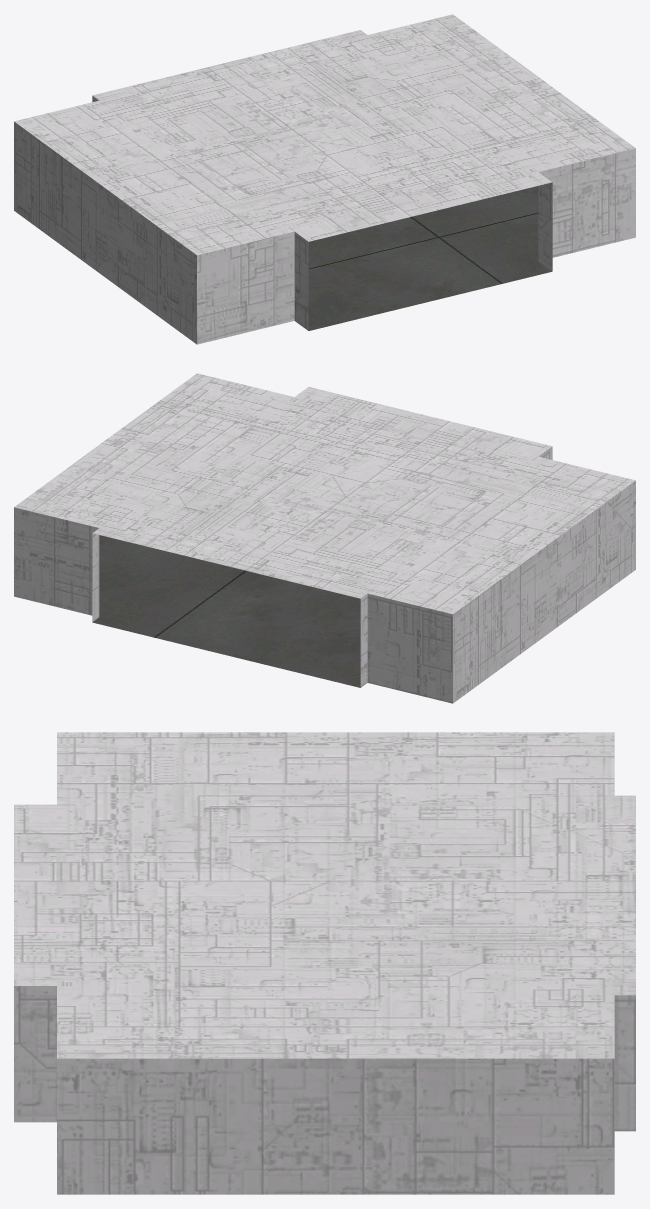
File: thm_spc_star_destroyer_s01_r41_engineering_mesh_r41.fbx
3 renders of one model, top to bottom at view 1: azimuth 30°, elevation 25°; view 2: azimuth 150°, elevation 25°; view 3: azimuth 270°, elevation 25°, orthographic. The views are drawn at different scales.
Visible parts, largest first — view 1: mesh_node; view 2: mesh_node; view 3: mesh_node.
Part boxes in pixels (x1,y1,x2,y2): mesh_node: (14, 14, 635, 344); mesh_node: (14, 373, 635, 703); mesh_node: (14, 732, 635, 1194).
Bounding box in the file's own units: 18 × 3.5 × 14.5.
2 materials, 2 textured.
